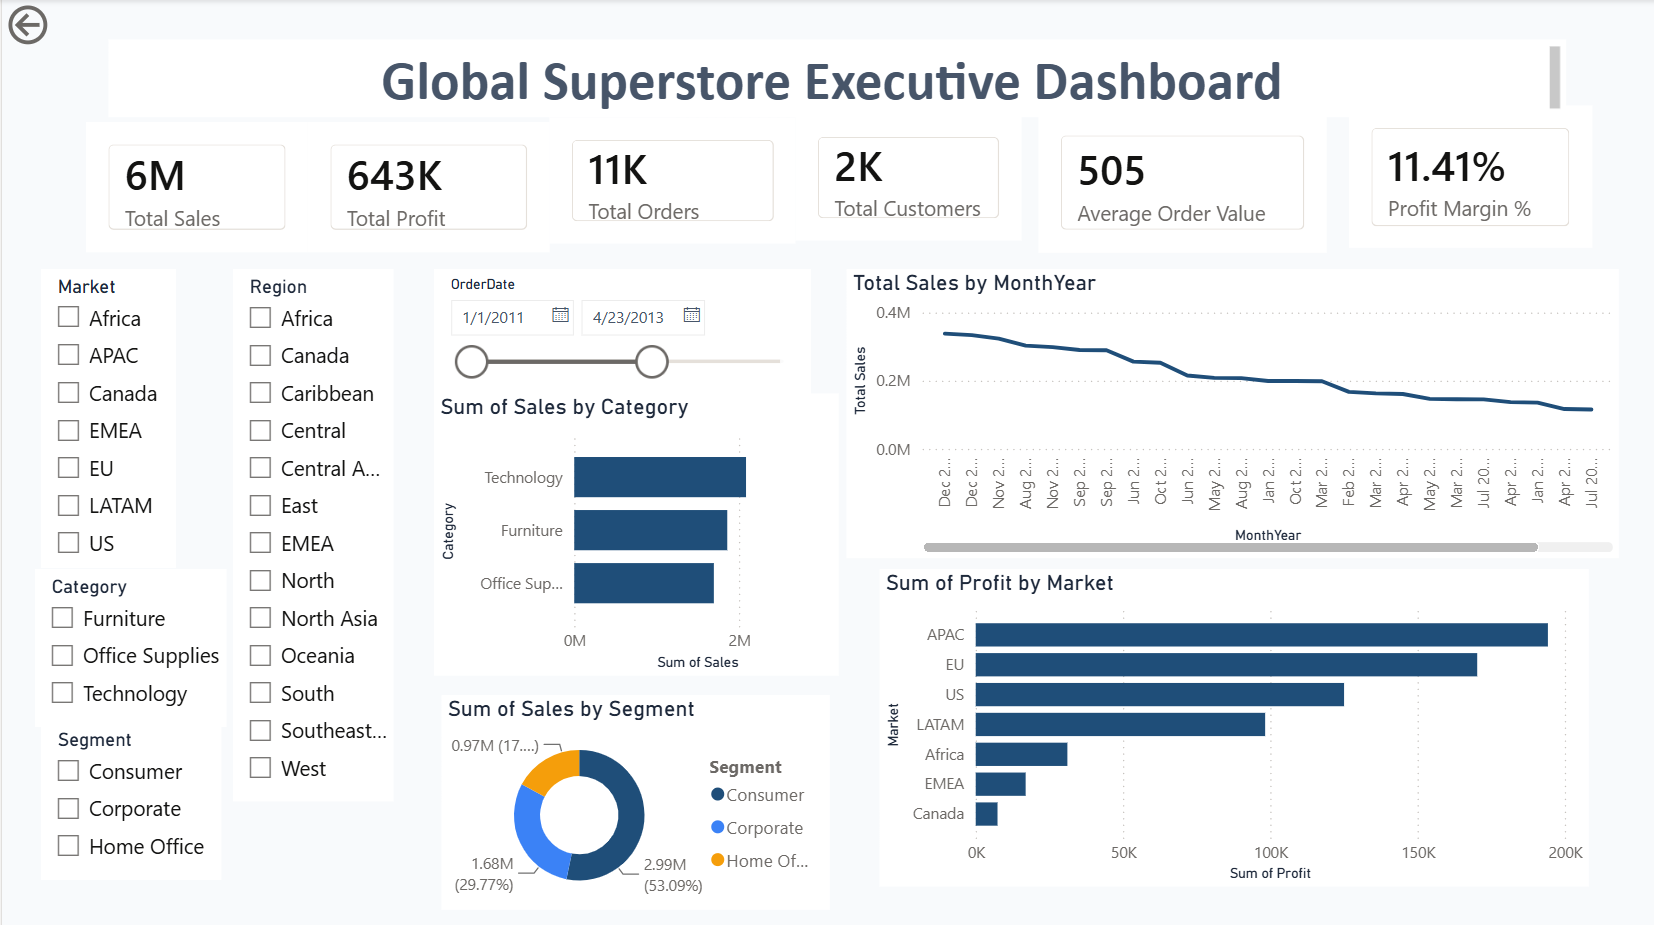

Layout of this report page (visuals, bound fields, positions):
{"tool":"powerbi","page":{"name":"Page 1","canvas":[1280,720],"ordinal":0},"visuals":[{"type":"cardVisual","fields":{"Data":["Measure.Total Sales"]},"box":[64.9,95,171.5,100.8],"z":0},{"type":"cardVisual","fields":{"Data":["Measure.Total Orders"]},"box":[422.9,91.5,190,97.3],"z":1000},{"type":"cardVisual","fields":{"Data":["Measure.Profit Margin %"]},"box":[1040.5,82.3,187.7,110.1],"z":2000},{"type":"cardVisual","fields":{"Data":["Measure.Total Profit"]},"box":[236.4,95,186.6,100.8],"z":3000},{"type":"cardVisual","fields":{"Data":["Measure.Total Customers"]},"box":[613,89.2,175,97.3],"z":4000},{"type":"cardVisual","fields":{"Data":["Measure.Average Order Value"]},"box":[800.7,88.1,222.5,107.8],"z":5000},{"type":"actionButton","box":[0,0,100,40],"z":6000},{"type":"slicer","fields":{"Values":["fact_Sales.OrderDate"]},"box":[333.7,208.6,290.8,96.2],"z":7000},{"type":"slicer","fields":{"Values":["fact_Sales.Market"]},"box":[30.1,208.6,104.3,230.6],"z":8000},{"type":"slicer","fields":{"Values":["fact_Sales.Region"]},"box":[178.4,208.6,124,411.3],"z":9000},{"type":"slicer","fields":{"Values":["dim_Product.Category"]},"box":[25.5,440.3,148.3,121.7],"z":10000},{"type":"slicer","fields":{"Values":["dim_Customer.Segment"]},"box":[30.1,558.5,139,121.7],"z":11000},{"type":"lineChart","fields":{"Y":["Measure.Total Sales"],"Category":["dim_Date.MonthYear"]},"box":[652.4,208.6,596.7,223.6],"z":12000},{"type":"barChart","fields":{"Category":["dim_Product.Category"],"Y":["Sum(fact_Sales.Sales)"]},"box":[333.7,304.7,312.9,217.8],"z":13000},{"type":"barChart","fields":{"Category":["fact_Sales.Market"],"Y":["Sum(fact_Sales.Profit)"]},"box":[677.9,440.3,548.1,245.7],"z":14000},{"type":"donutChart","fields":{"Y":["Sum(fact_Sales.Sales)"],"Category":["dim_Customer.Segment"]},"box":[339.5,537.7,300.1,165.7],"z":15000},{"type":"textbox","box":[82.3,31.3,1126.3,60.3],"z":16000}]}

Visuals, with their boxes in screenshot pixels (x1, y1, x2, y2), scaled from the page's 1280x720 canvas onto the 1654x925 screenshot:
cardVisual - Measure.Total Sales: <box>84,122,305,252</box>
cardVisual - Measure.Total Orders: <box>546,118,792,243</box>
cardVisual - Measure.Profit Margin %: <box>1345,106,1587,247</box>
cardVisual - Measure.Total Profit: <box>305,122,547,252</box>
cardVisual - Measure.Total Customers: <box>792,115,1018,240</box>
cardVisual - Measure.Average Order Value: <box>1035,113,1322,252</box>
actionButton: <box>0,0,129,51</box>
slicer - fact_Sales.OrderDate: <box>431,268,807,392</box>
slicer - fact_Sales.Market: <box>39,268,174,564</box>
slicer - fact_Sales.Region: <box>231,268,391,796</box>
slicer - dim_Product.Category: <box>33,566,225,722</box>
slicer - dim_Customer.Segment: <box>39,718,219,874</box>
lineChart - Measure.Total Sales x dim_Date.MonthYear: <box>843,268,1614,555</box>
barChart - dim_Product.Category x Sum(fact_Sales.Sales): <box>431,391,836,671</box>
barChart - fact_Sales.Market x Sum(fact_Sales.Profit): <box>876,566,1584,881</box>
donutChart - Sum(fact_Sales.Sales) x dim_Customer.Segment: <box>439,691,826,904</box>
textbox: <box>106,40,1562,118</box>
